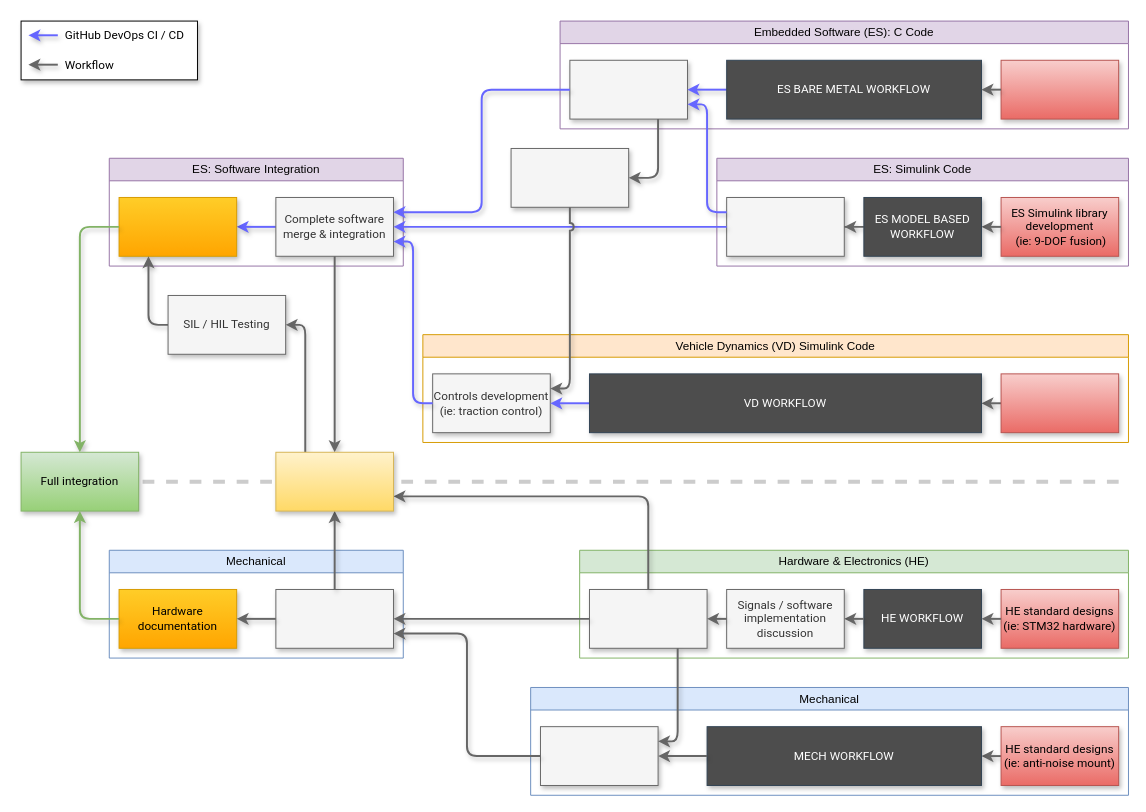
Image size: 1146x812. Some labels were removed from this diagram. The shapes that lost their labels are listed below. From the top down, each one's centre as x and y in pixels, then its label:
At point 629,90: "Bare metal development (ie: STM32)".
At point 1060,90: "Systems template development & conventions".
At point 570,179: "HIL data collection (ie: wheel speed)".
At point 178,228: "Software release".
At point 786,228: "Model development (ie: sensor fusion)".
At point 1060,404: "VD Simulink library development (ie: wheel slip model)".
At point 335,482: "Board bring-up".
At point 335,620: "Complete hardware mounting into F xx".
At point 649,620: "PCB production & assembly".
At point 600,757: "Enclosure & parts assembly".
